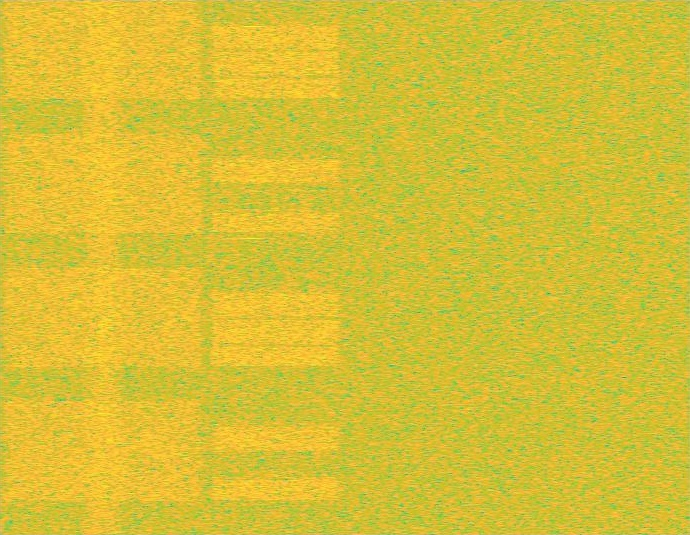5G: (0, 0, 207, 534)
DSSS: (80, 0, 127, 534)
LTE: (207, 0, 345, 534)
Radar: (245, 0, 259, 534)
